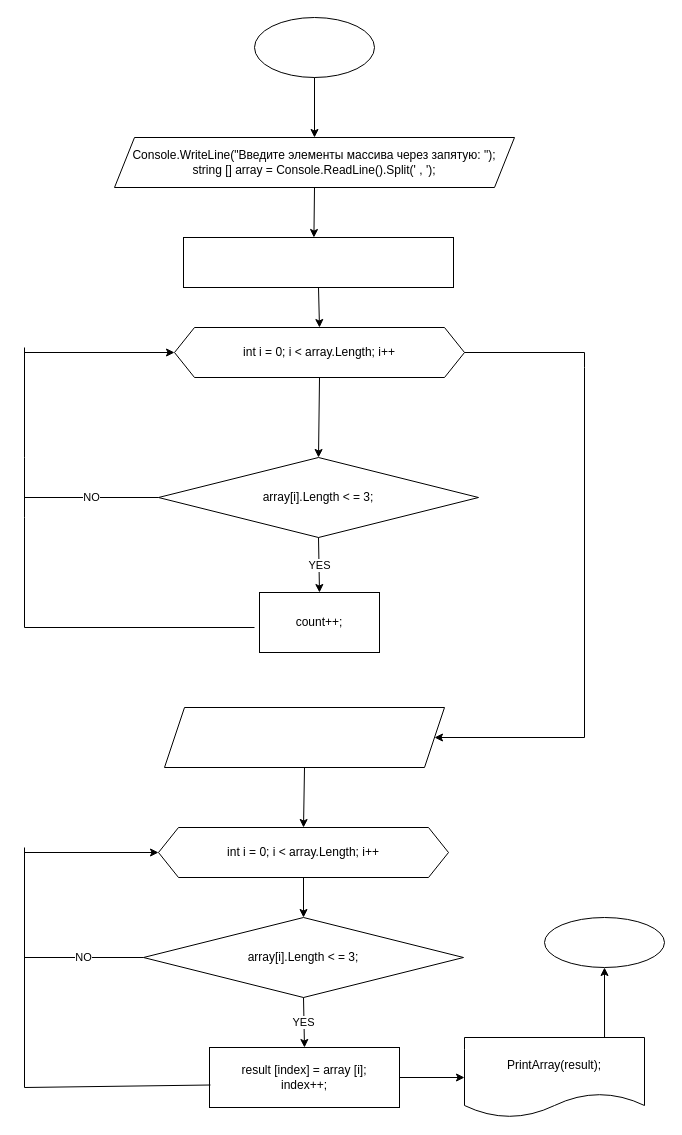
Image size: 682x1135. Some labels were removed from this diagram. Here are the shapes that lost their labels. From the top down, the centre of each, then its label:
At point 314,47: "Start".
At point 318,262: "string [] result = GetShortStrings(iarray); int count = 0;".
At point 304,737: "string [] result = new string [count]; int index = 0;".
At point 604,942: "End".
